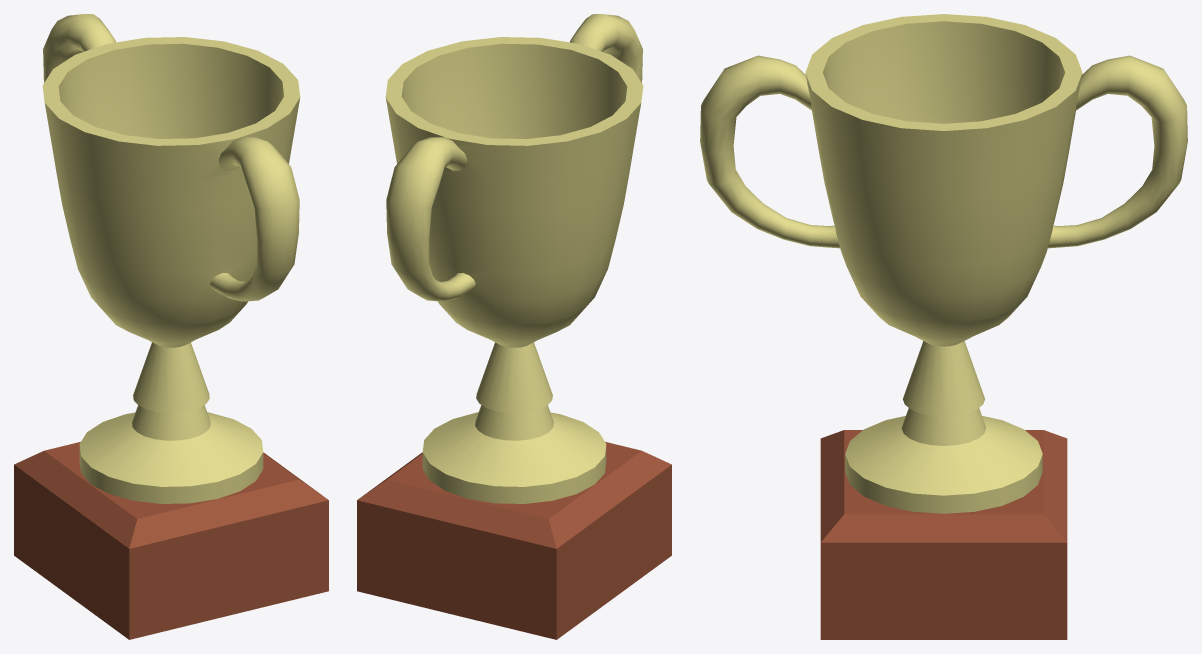
Rendered from Book_Shelf_Stuff_03.glb.
3 renders of one model, left to right at view 1: azimuth 30°, elevation 25°; view 2: azimuth 150°, elevation 25°; view 3: azimuth 270°, elevation 25°, orthographic. The views are drawn at different scales.
Parts seen in each view (by area): view 1: Awards.001; view 2: Awards.001; view 3: Awards.001.
Boxes of the visible parts, left/top/right/bottom form: Awards.001: left=14, top=14, right=328, bottom=639; Awards.001: left=357, top=14, right=671, bottom=639; Awards.001: left=700, top=14, right=1187, bottom=639.
Bounding box in the file's own units: 0.1288 × 0.2719 × 0.2268.
